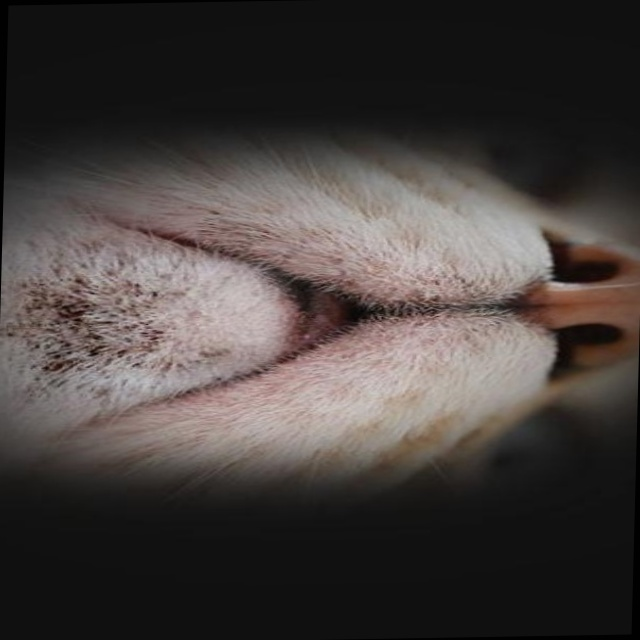acne: (3, 276, 188, 374)
